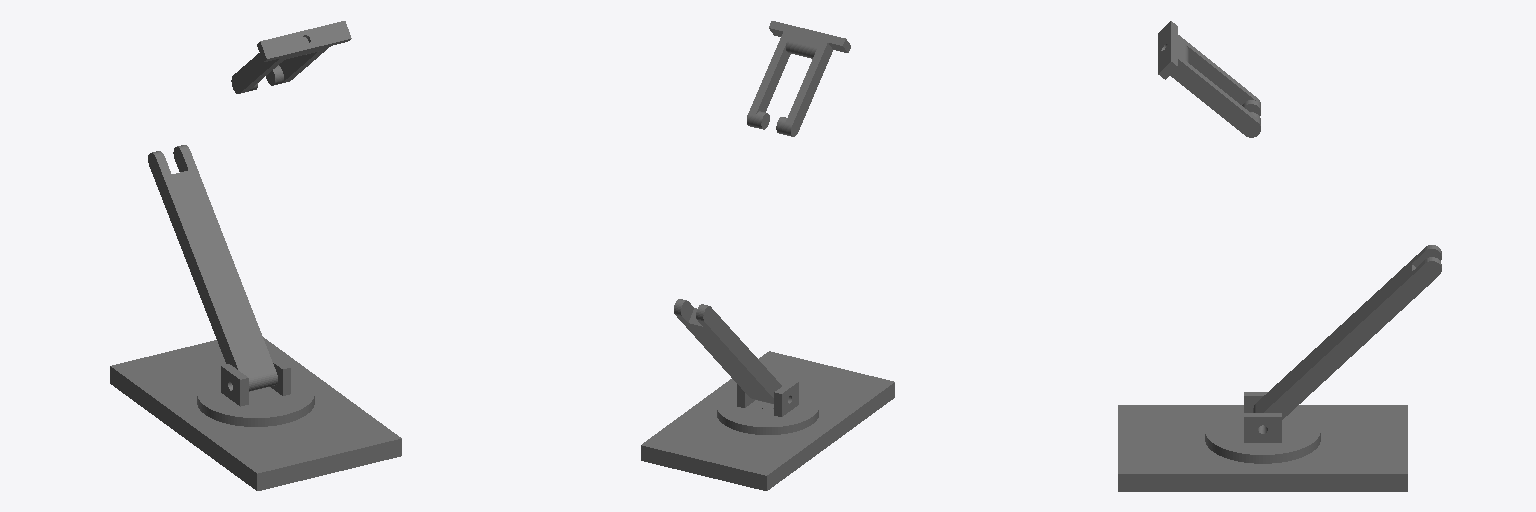
robot.urdf — aurora_arm:
<?xml version="1.0" ?>
<!-- =================================================================================== -->
<!-- |    This document was autogenerated by xacro from src/aurora_arm/description/robot_ign_v2.xacro | -->
<!-- |    EDITING THIS FILE BY HAND IS NOT RECOMMENDED                                 | -->
<!-- =================================================================================== -->
<robot name="aurora_arm" xmlns:xacro="http://www.ros.org/wiki/xacro"> 
  <material name="grey">
    <color rgba="0.5 0.5 0.5 1.0"/>
  </material>
  <material name="red">
    <color rgba="1.0 0.0 0.0 1.0"/>
  </material>
  <material name="black">
    <color rgba="0.0 0.0 0.0 1.0"/>
  </material>
  <link name="base_link">
    <!-- 慣性プロパティを追加してベースを安定させる -->
    <inertial>
      <origin rpy="0 0 0" xyz="0 0 0"/>
      <mass value="100.0"/>
      <!-- 重い質量でベースを安定化 -->
      <inertia ixx="10.0" ixy="0.0" ixz="0.0" iyy="10.0" iyz="0.0" izz="10.0"/>
    </inertial>
    <collision>
      <geometry>
        <box size="0.2 0.2 0.1"/>
        <!-- 衝突判定用のボックス -->
      </geometry>
      <origin rpy="0 0 0" xyz="0 0 0.05"/>
    </collision>
  </link>
  <!-- ベースを完全に固定 -->
  <gazebo reference="base_link">
    <static>true</static>
    <material>Gazebo/Gray</material>
  </gazebo>
  <joint name="base" type="fixed">
    <parent link="base_link"/>
    <child link="state_link"/>
    <origin rpy="1.5707963267948966 0 0" xyz="0 0 0"/>
  </joint>
  <link name="state_link">
    <visual>
      <geometry>
        <mesh filename="package://aurora_arm/meshes/base_link.stl" scale="0.001 0.001 0.001"/>
      </geometry>
      <origin rpy="0 0 0" xyz="0 0 0"/>
      <material name="grey"/>
    </visual>
    <inertial>
      <origin rpy="0 0 0" xyz="-1.2836056698212661e-14 0.010046058033552938 1.777847188118097e-17"/>
      <mass value="50"/>
      <inertia ixx="0.060326" ixy="-0.0" ixz="-0.0" iyy="0.079337" iyz="0.0" izz="0.019557"/>
    </inertial>
    <collision>
      <origin rpy="0 0 0" xyz="0 0 0"/>
      <geometry>
        <mesh filename="package://aurora_arm/meshes/base_link.stl" scale="0.001 0.001 0.001"/>
      </geometry>
    </collision>
  </link>
  <gazebo reference="state_link">
    <material>Gazebo/Gray</material>
  </gazebo>
  <joint name="rotation1" type="revolute">
    <parent link="state_link"/>
    <child link="arm_link_1"/>
    <origin rpy="0 0 0" xyz="0.0 0.03 0.0"/>
    <axis xyz="0.0 1.0 0.0"/>
    <limit effort="100" lower="-2.748894" upper="-0.392699" velocity="100"/>
    <dynamics damping="10.0" friction="1.0"/>
    <!-- ダンピングとフリクション追加 -->
  </joint>
  <link name="arm_link_1">
    <visual>
      <geometry>
        <mesh filename="package://aurora_arm/meshes/arm1_link_1.stl" scale="0.001 0.001 0.001"/>
      </geometry>
      <origin rpy="0 0 0" xyz="-0.0 -0.03 -0.0"/>
      <material name="grey"/>
    </visual>
    <inertial>
      <origin rpy="0 0 0" xyz="1.2424219094974304e-14 -0.001611517508914171 2.4814919210499358e-14"/>
      <mass value="1.039221830408455"/>
      <inertia ixx="0.00099" ixy="-0.0" ixz="-0.0" iyy="0.001733" iyz="0.0" izz="0.000903"/>
    </inertial>
    <collision>
      <origin rpy="0 0 0" xyz="-0.0 -0.03 -0.0"/>
      <geometry>
        <mesh filename="package://aurora_arm/meshes/arm1_link_1.stl" scale="0.001 0.001 0.001"/>
      </geometry>
    </collision>
  </link>
  <gazebo reference="arm_link_1">
    <material>Gazebo/Gray</material>
  </gazebo>
  <joint name="rotation2" type="revolute">
    <parent link="arm_link_1"/>
    <child link="arm_link_2"/>
    <origin rpy="0 0 0" xyz="-5e-06 0.015 -0.02"/>
    <axis xyz="-0.00026 -0.0 -1.0"/>
    <limit effort="100" lower="-0.785398" upper="1.570796" velocity="100"/>
    <dynamics damping="10.0" friction="1.0"/>
    <!-- ダンピングとフリクション追加 -->
  </joint>
  <link name="arm_link_2">
    <visual>
      <geometry>
        <mesh filename="package://aurora_arm/meshes/arm2_link_1.stl" scale="0.001 0.001 0.001"/>
      </geometry>
      <origin rpy="0 0 0" xyz="5e-06 -0.045 0.02"/>
      <material name="grey"/>
    </visual>
    <inertial>
      <origin rpy="0 0 0" xyz="-0.08436856236861598 0.08574082978509752 0.02002195399237318"/>
      <mass value="1.556523004661359"/>
      <inertia ixx="0.004388" ixy="0.004054" ixz="1e-06" iyy="0.004258" iyz="-1e-06" izz="0.008213"/>
    </inertial>
    <collision>
      <origin rpy="0 0 0" xyz="5e-06 -0.045 0.02"/>
      <geometry>
        <mesh filename="package://aurora_arm/meshes/arm2_link_1.stl" scale="0.001 0.001 0.001"/>
      </geometry>
    </collision>
  </link>
  <gazebo reference="arm_link_2">
    <material>Gazebo/Gray</material>
  </gazebo>
  <joint name="rotation3" type="revolute">
    <parent link="arm_link_2"/>
    <child link="arm_link_3"/>
    <origin rpy="0 0 0" xyz="-0.175343 0.178192 0.030046"/>
    <axis xyz="-0.00026 0.0 -1.0"/>
    <limit effort="100" lower="-3.141593" upper="0.785398" velocity="100"/>
    <dynamics damping="10.0" friction="1.0"/>
    <!-- ダンピングとフリクション追加 -->
  </joint>
  <link name="arm_link_3">
    <visual>
      <geometry>
        <mesh filename="package://aurora_arm/meshes/arm3_link_1.stl" scale="0.001 0.001 0.001"/>
      </geometry>
      <origin rpy="0 0 0" xyz="0.175348 -0.223192 -0.010046"/>
      <material name="grey"/>
    </visual>
    <inertial>
      <origin rpy="0 0 0" xyz="0.09386781150408618 0.08296159224208283 -0.010024798863264761"/>
      <mass value="1.4275537558266949"/>
      <inertia ixx="0.003111" ixy="-0.003281" ixz="1e-06" iyy="0.003931" iyz="1e-06" izz="0.006708"/>
    </inertial>
    <collision>
      <origin rpy="0 0 0" xyz="0.175348 -0.223192 -0.010046"/>
      <geometry>
        <mesh filename="package://aurora_arm/meshes/arm3_link_1.stl" scale="0.001 0.001 0.001"/>
      </geometry>
    </collision>
  </link>
  <gazebo reference="arm_link_3">
    <material>Gazebo/Gray</material>
  </gazebo>
  <joint name="rotation4" type="revolute">
    <parent link="arm_link_3"/>
    <child link="arm_link_4"/>
    <origin rpy="0 0 0" xyz="0.187345 0.16553 -0.020049"/>
    <axis xyz="-0.00026 0.0 -1.0"/>
    <limit effort="100" lower="-0.872665" upper="1.570796" velocity="100"/>
    <dynamics damping="10.0" friction="1.0"/>
    <!-- ダンピングとフリクション追加 -->
  </joint>
  <link name="arm_link_4">
    <visual>
      <geometry>
        <mesh filename="package://aurora_arm/meshes/arm4_link_1.stl" scale="0.001 0.001 0.001"/>
      </geometry>
      <origin rpy="0 0 0" xyz="-0.011997 -0.388722 0.010003"/>
      <material name="grey"/>
    </visual>
    <inertial>
      <origin rpy="0 0 0" xyz="0.04283652196076893 0.03784496310007385 0.00998873232310213"/>
      <mass value="0.5345901994447376"/>
      <inertia ixx="0.000635" ixy="-0.000405" ixz="0.0" iyy="0.000736" iyz="0.0" izz="0.00085"/>
    </inertial>
    <collision>
      <origin rpy="0 0 0" xyz="-0.011997 -0.388722 0.010003"/>
      <geometry>
        <mesh filename="package://aurora_arm/meshes/arm4_link_1.stl" scale="0.001 0.001 0.001"/>
      </geometry>
    </collision>
  </link>
  <gazebo reference="arm_link_4">
    <material>Gazebo/Gray</material>
  </gazebo>
  <joint name="rotation5" type="revolute">
    <parent link="arm_link_4"/>
    <child link="arm_link_5"/>
    <origin rpy="0 0 0" xyz="0.01417 0.114124 0.009996"/>
    <axis xyz="0.749398 0.662119 -0.000195"/>
    <limit effort="100" lower="-2.356194" upper="2.356194" velocity="100"/>
  </joint>
  <link name="arm_link_5">
    <visual>
      <geometry>
        <mesh filename="package://aurora_arm/meshes/arm5_link_1.stl" scale="0.001 0.001 0.001"/>
      </geometry>
      <origin rpy="0 0 0" xyz="-0.026167 -0.502846 7e-06"/>
      <material name="grey"/>
    </visual>
    <inertial>
      <origin rpy="0 0 0" xyz="0.07201323471428178 -0.0379807321383373 -1.8546487173911982e-05"/>
      <mass value="0.15083462441733284"/>
      <inertia ixx="0.000134" ixy="2e-06" ixz="-0.0" iyy="0.000134" iyz="0.0" izz="6e-06"/>
    </inertial>
    <collision>
      <origin rpy="0 0 0" xyz="-0.026167 -0.502846 7e-06"/>
      <geometry>
        <mesh filename="package://aurora_arm/meshes/arm5_link_1.stl" scale="0.001 0.001 0.001"/>
      </geometry>
    </collision>
  </link>
  <gazebo reference="arm_link_5">
    <material>Gazebo/Gray</material>
  </gazebo>
  <joint name="slide1" type="prismatic">
    <parent link="arm_link_5"/>
    <child link="hand_link_1"/>
    <origin rpy="0 0 0" xyz="0.072052 -0.03801 0.049981"/>
    <axis xyz="-0.00052 0.000294 -1.0"/>
    <limit effort="100" lower="0.001" upper="0.04" velocity="100"/>
    <dynamics damping="5.0" friction="0.5"/>
    <!-- ダンピングとフリクション追加 -->
  </joint>
  <link name="hand_link_1">
    <visual>
      <geometry>
        <mesh filename="package://aurora_arm/meshes/hand1_link_1.stl" scale="0.001 0.001 0.001"/>
      </geometry>
      <origin rpy="0 0 0" xyz="-0.098219 -0.464836 -0.049974"/>
      <material name="grey"/>
    </visual>
    <inertial>
      <origin rpy="0 0 0" xyz="0.02626289486026448 0.023237763910856968 -0.010145280708131962"/>
      <mass value="0.0941999999999979"/>
      <inertia ixx="1.5e-05" ixy="-1.3e-05" ixz="0.0" iyy="1.8e-05" iyz="0.0" izz="3.2e-05"/>
    </inertial>
    <collision>
      <origin rpy="0 0 0" xyz="-0.098219 -0.464836 -0.049974"/>
      <geometry>
        <mesh filename="package://aurora_arm/meshes/hand1_link_1.stl" scale="0.001 0.001 0.001"/>
      </geometry>
    </collision>
  </link>
  <gazebo reference="hand_link_1">
    <material>Gazebo/Gray</material>
  </gazebo>
  <joint name="slide2" type="prismatic">
    <parent link="arm_link_5"/>
    <child link="hand_link_2"/>
    <origin rpy="0 0 0" xyz="0.071974 -0.037951 -0.050019"/>
    <axis xyz="0.00052 -0.000294 1.0"/>
    <limit effort="100" lower="0.001" upper="0.04" velocity="100"/>
    <dynamics damping="5.0" friction="0.5"/>
    <!-- ダンピングとフリクション追加 -->
  </joint>
  <link name="hand_link_2">
    <visual>
      <geometry>
        <mesh filename="package://aurora_arm/meshes/hand2_link_1.stl" scale="0.001 0.001 0.001"/>
      </geometry>
      <origin rpy="0 0 0" xyz="-0.098141 -0.464895 0.050026"/>
      <material name="grey"/>
    </visual>
    <inertial>
      <origin rpy="0 0 0" xyz="0.02629947971429203 0.023202160214768452 0.010132511217204668"/>
      <mass value="0.09419999999999831"/>
      <inertia ixx="1.5e-05" ixy="-1.3e-05" ixz="-0.0" iyy="1.8e-05" iyz="-0.0" izz="3.2e-05"/>
    </inertial>
    <collision>
      <origin rpy="0 0 0" xyz="-0.098141 -0.464895 0.050026"/>
      <geometry>
        <mesh filename="package://aurora_arm/meshes/hand2_link_1.stl" scale="0.001 0.001 0.001"/>
      </geometry>
    </collision>
  </link>
  <gazebo reference="hand_link_2">
    <material>Gazebo/Gray</material>
  </gazebo>
</robot>

--- Render facts (derived) ---
The picture shows the robot from 3 angles, left to right: view 1: azimuth 30°, elevation 25°; view 2: azimuth 150°, elevation 25°; view 3: azimuth 270°, elevation 25°; orthographic projection.
Model aurora_arm with 9 links and 8 joints (5 revolute, 2 prismatic, 1 fixed), rooted at base_link, posed joints at zero except 3 at the middle of their limits (rotation1 = -1.57, slide1 = 0.0205, slide2 = 0.0205).
Links seen in each view (by area): view 1: state_link, arm_link_2, arm_link_1, arm_link_4, arm_link_5; view 2: state_link, arm_link_2, arm_link_4, arm_link_1, arm_link_5; view 3: state_link, arm_link_2, arm_link_1, arm_link_4, arm_link_5.
Boxes of the visible links, <box> form: state_link: <box>110,337,401,490</box>; arm_link_2: <box>148,145,277,391</box>; arm_link_1: <box>197,353,314,426</box>; arm_link_4: <box>231,37,330,93</box>; arm_link_5: <box>257,21,351,61</box>; state_link: <box>641,351,894,490</box>; arm_link_2: <box>674,299,781,403</box>; arm_link_4: <box>747,32,832,136</box>; arm_link_1: <box>717,380,818,434</box>; arm_link_5: <box>769,21,850,52</box>; state_link: <box>1118,405,1407,491</box>; arm_link_2: <box>1253,245,1441,429</box>; arm_link_1: <box>1205,392,1320,463</box>; arm_link_4: <box>1170,35,1260,137</box>; arm_link_5: <box>1158,21,1177,79</box>.
Bounding box of the posed robot: 0.17 × 0.3353 × 0.4757 m (x, y, z).
5 mesh visuals loaded from 8 distinct referenced files (5 binary STL); not drawn: 3 (file found but could not be loaded).
